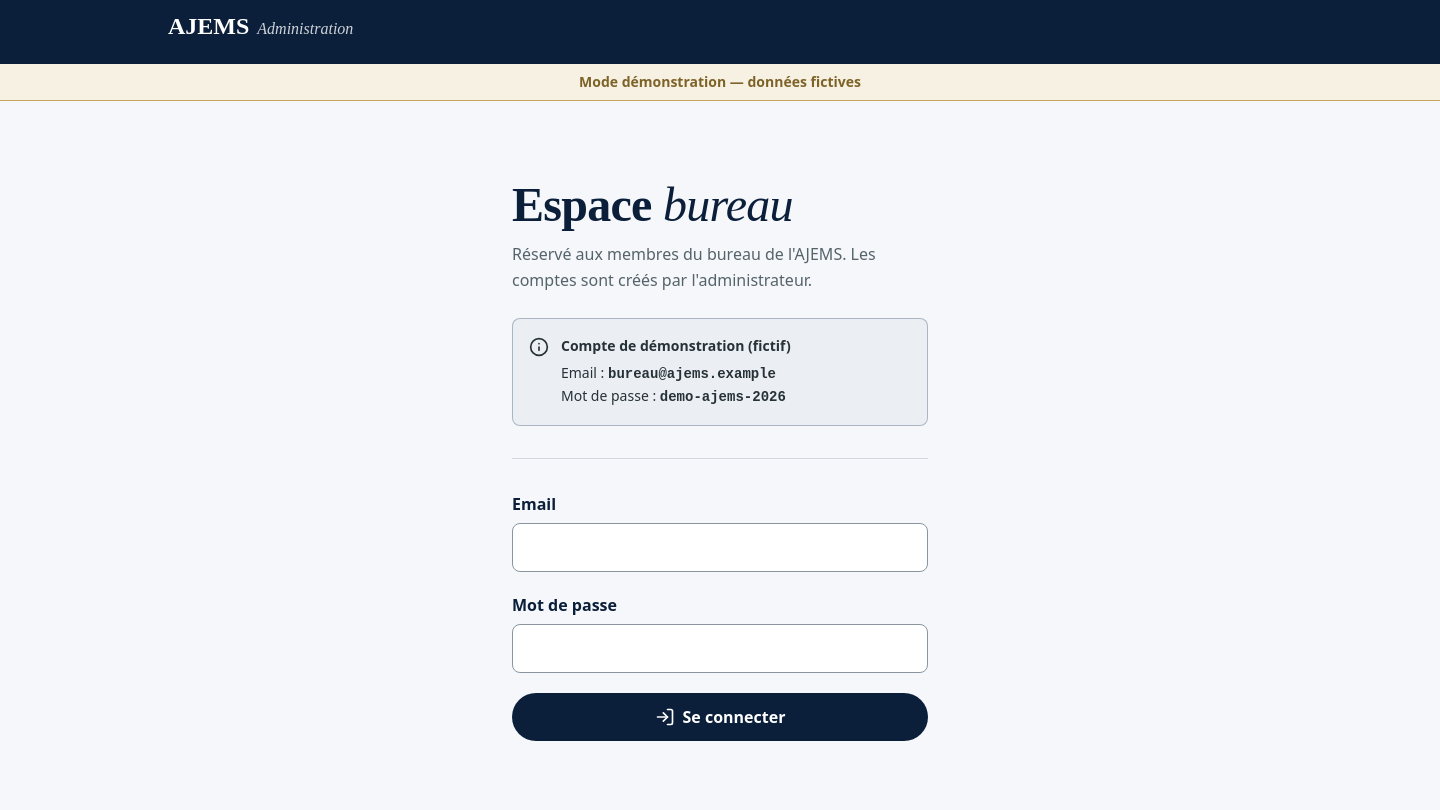
Test: admin › prints a form with the accepted règlement version and a signature area
Type "bureau@ajems.example" into the field labelled "Email" at (720, 548), box [512,523,928,572]
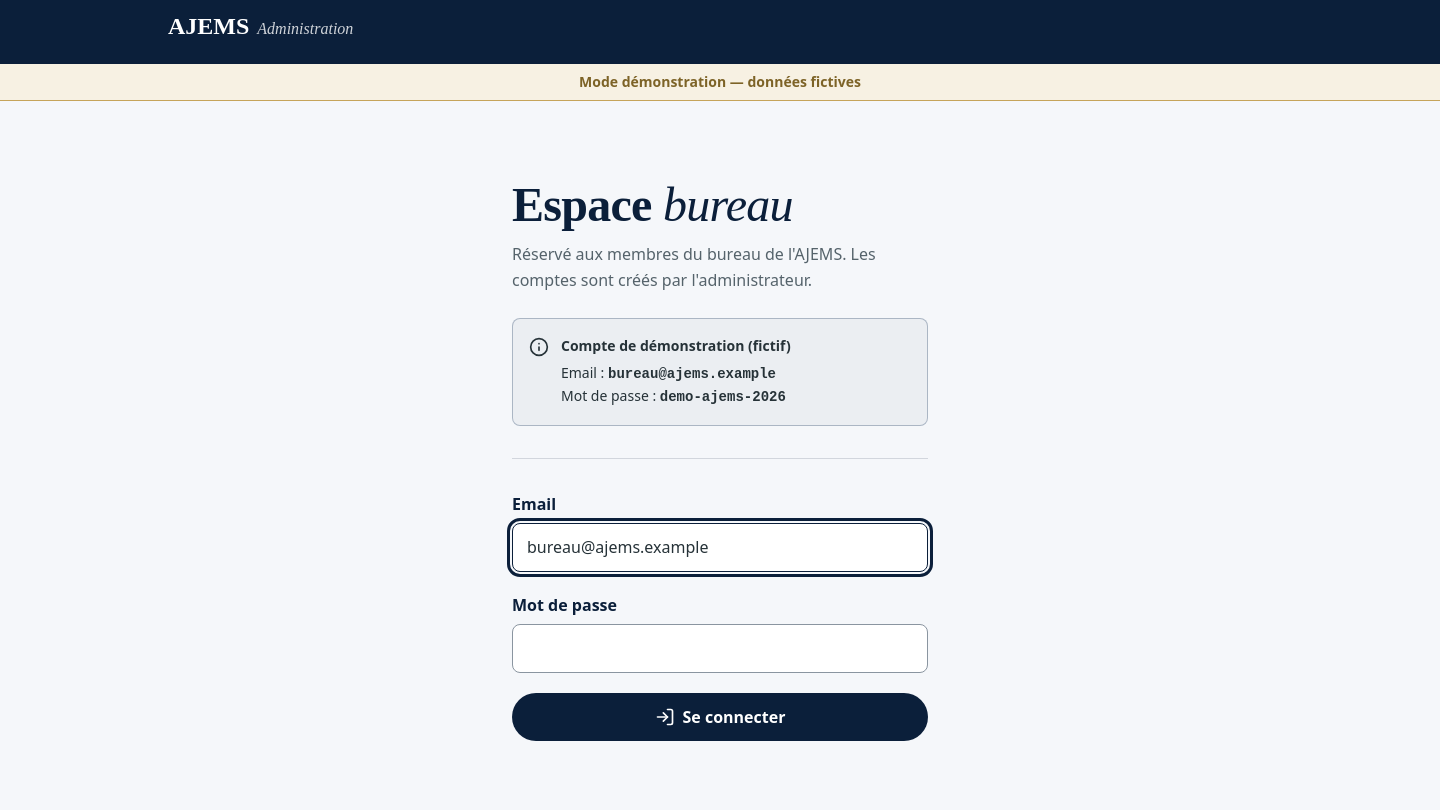
Type "demo-ajems-2026" into the password field labelled "Mot de passe" at (720, 648), box [512,624,928,673]
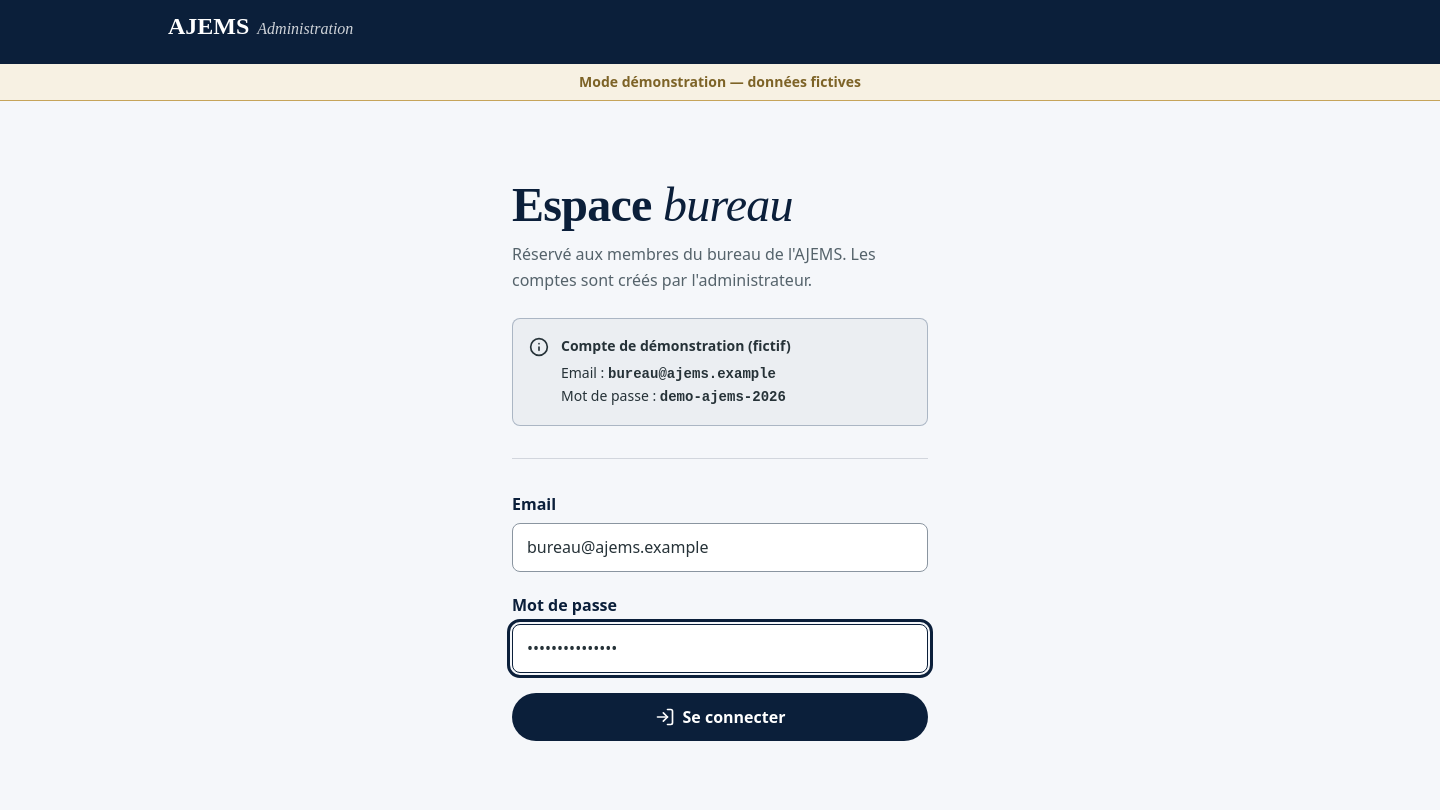
Click the button "Se connecter" at (720, 717), box [512,693,928,741]
(page scrolled)
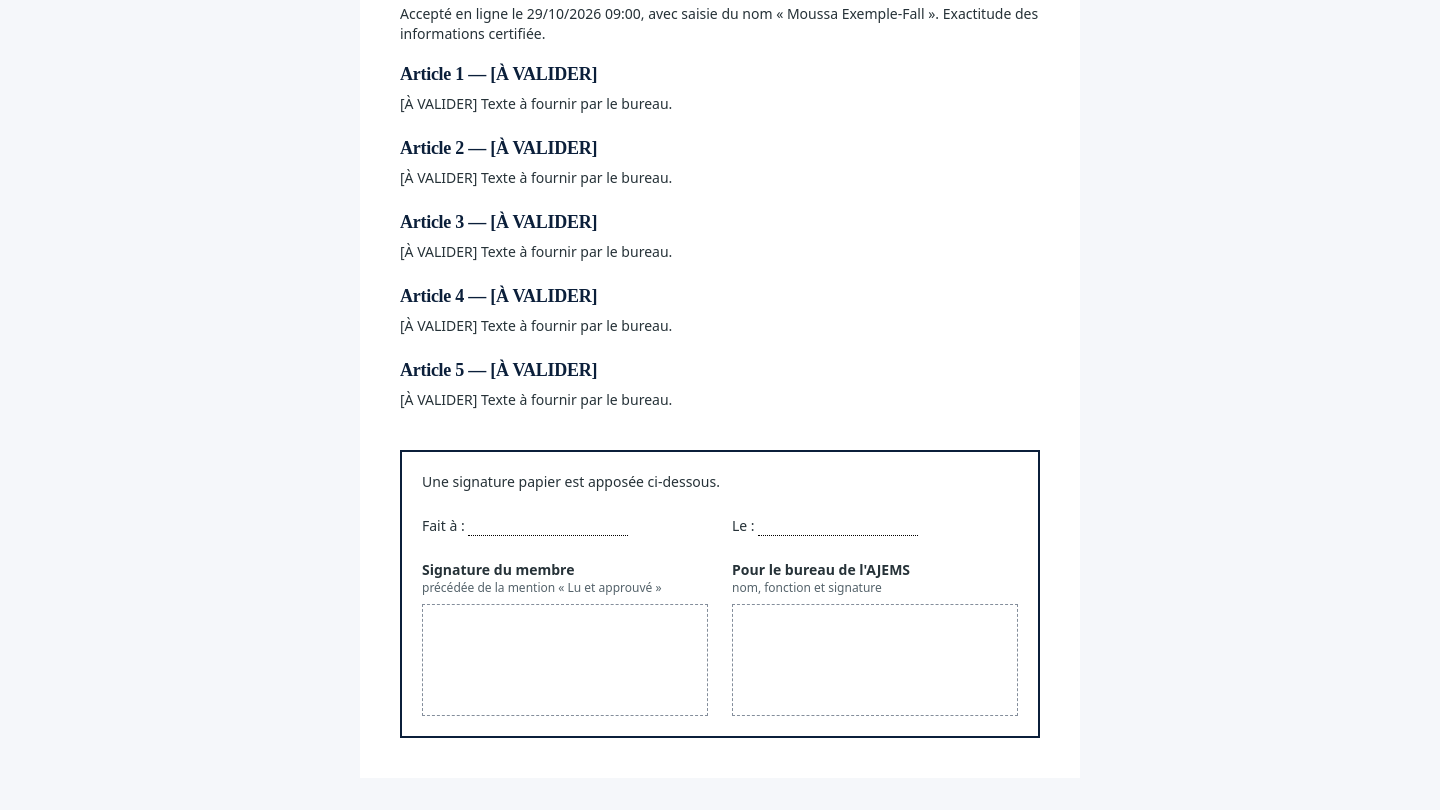
expect the text "Signature du membre" is shown: met, box [422,560,574,579]
expect the text "Fait à :" is shown: met, box [422,516,468,535]
